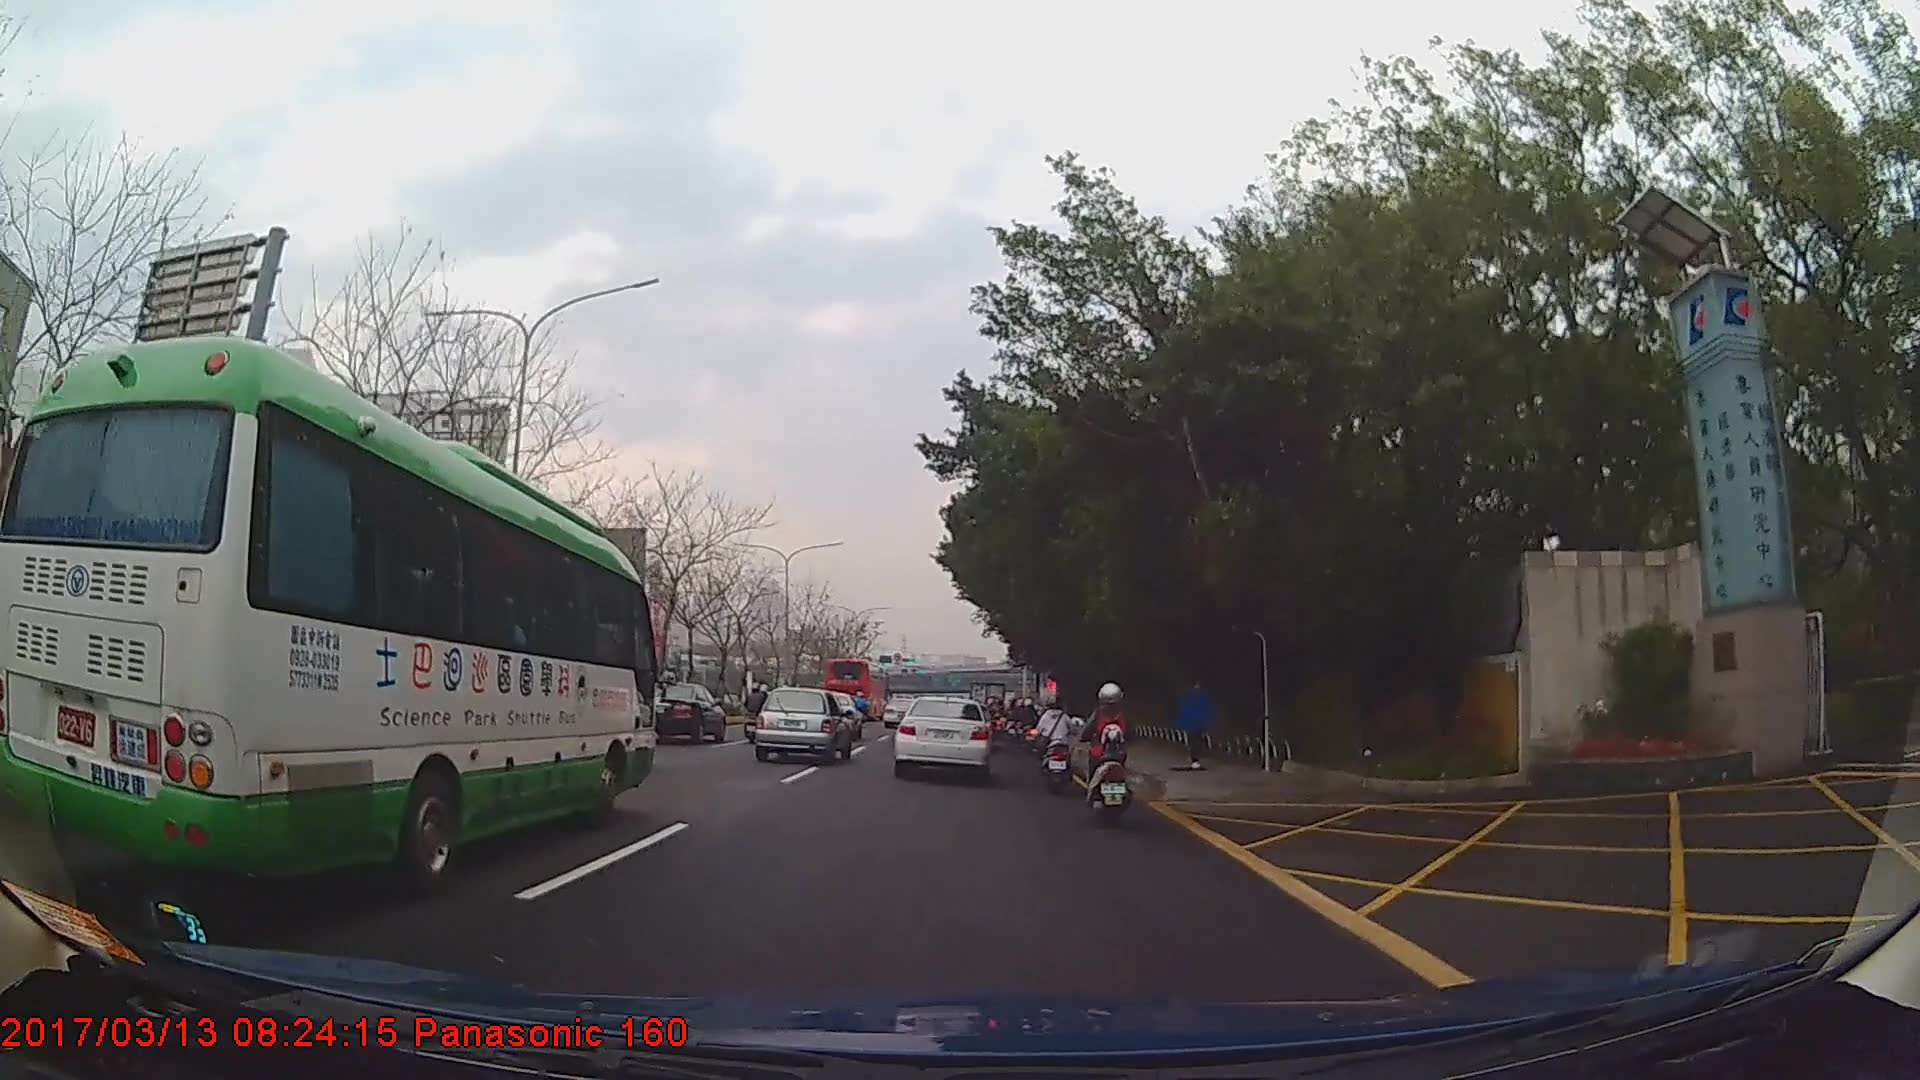pedestrian: (1181, 678, 1216, 768)
rider: (1079, 682, 1135, 827), (1037, 699, 1078, 796), (746, 683, 770, 734)
vehicle: (5, 330, 657, 895), (891, 693, 991, 779), (752, 686, 851, 763), (635, 674, 727, 741), (824, 657, 891, 722)
